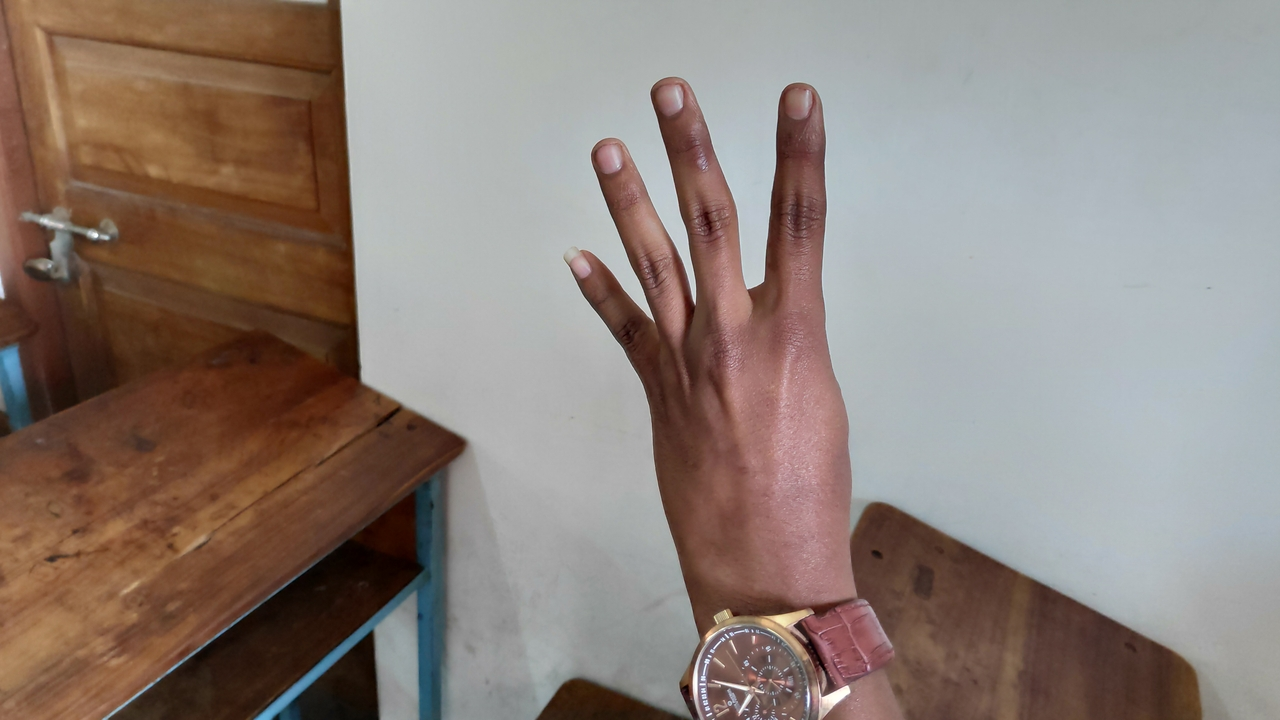fingertip: (554, 236, 614, 294), (586, 128, 644, 184), (648, 70, 706, 126), (772, 78, 832, 132)
